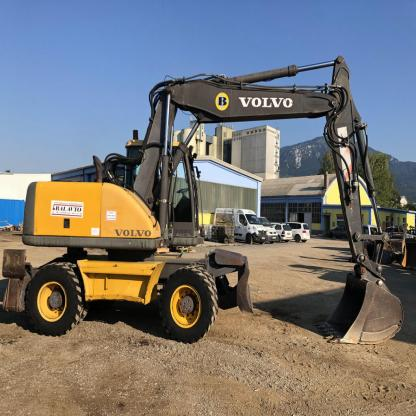excavator: (20, 36, 407, 360)
